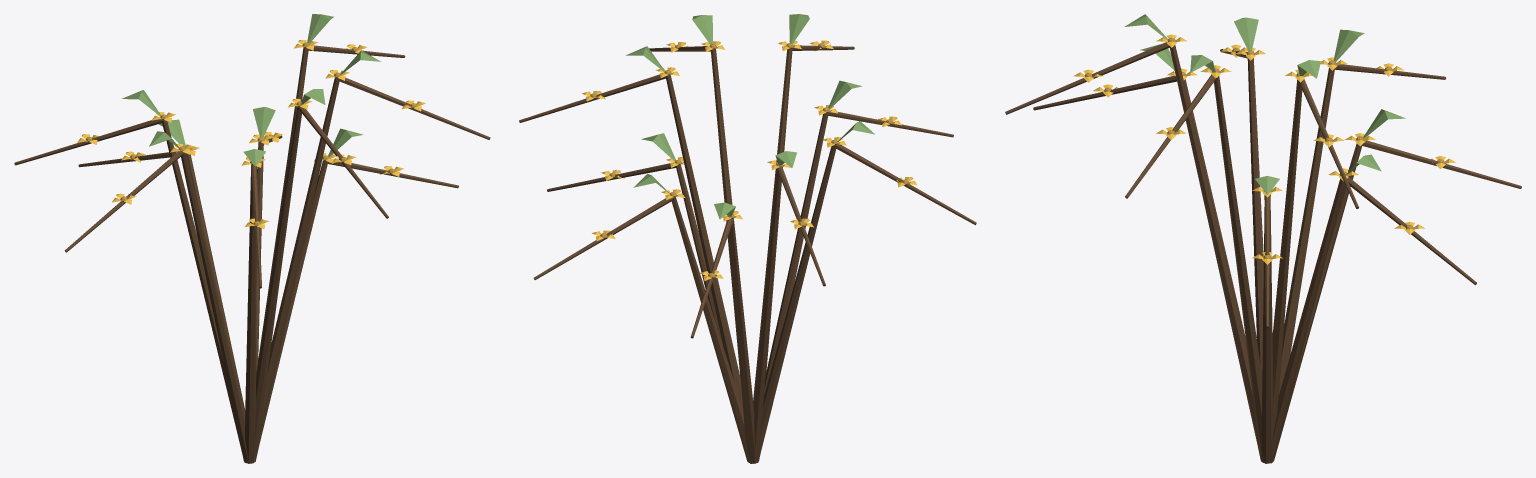
The model's file is b08_forsythia.glb.
3 renders of one model, left to right at view 1: azimuth 30°, elevation 25°; view 2: azimuth 150°, elevation 25°; view 3: azimuth 270°, elevation 25°, orthographic. The views are drawn at different scales.
Visible parts, largest first — view 1: b08_forsythia; view 2: b08_forsythia; view 3: b08_forsythia.
Part boxes in pixels (left/top/right/bottom): b08_forsythia: left=14, top=14, right=490, bottom=463; b08_forsythia: left=519, top=14, right=976, bottom=463; b08_forsythia: left=1005, top=14, right=1521, bottom=463.
Bounding box in the file's own units: 1.85 × 1.76 × 1.83.
